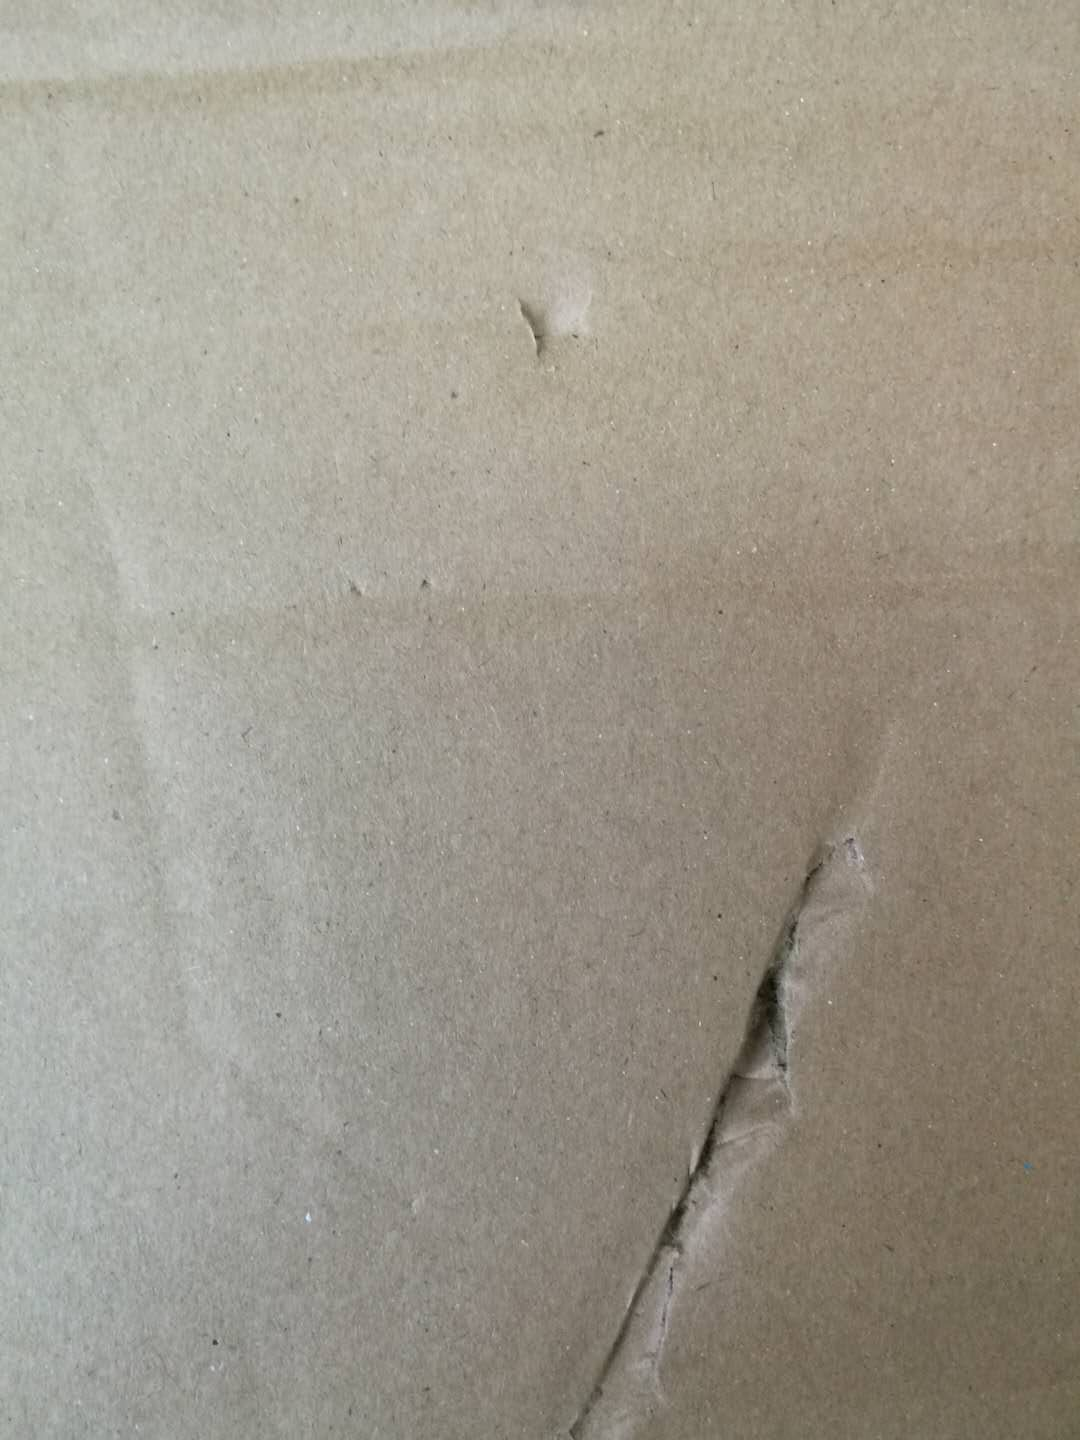defect: (503, 653, 962, 1440), (14, 490, 1080, 649), (6, 24, 605, 139), (459, 247, 651, 382)
